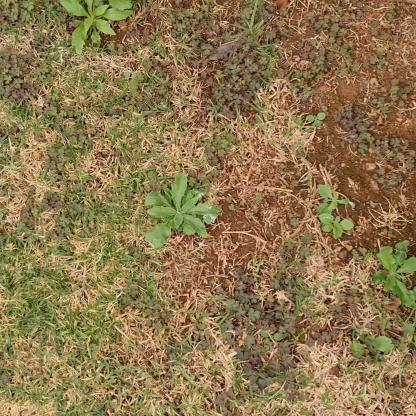Weeds: (143, 175, 219, 252), (61, 1, 134, 54), (370, 241, 415, 310), (315, 183, 351, 218), (348, 335, 391, 359), (319, 214, 354, 240), (308, 111, 328, 130)
